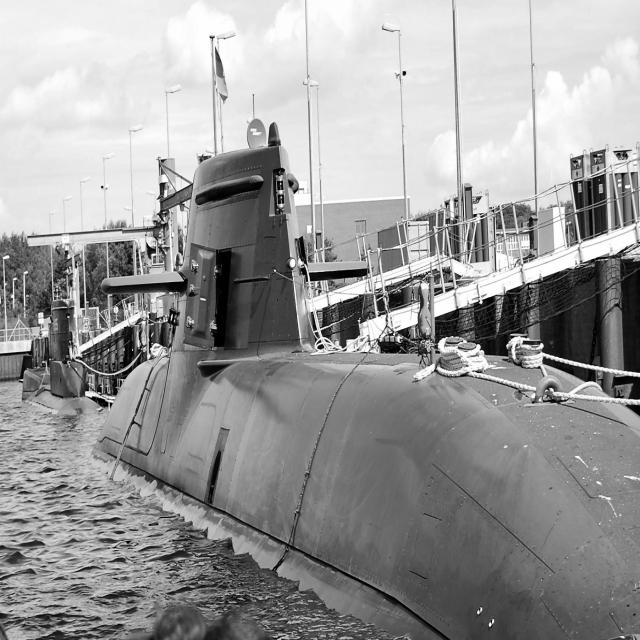submarine: (90, 1, 640, 640)
